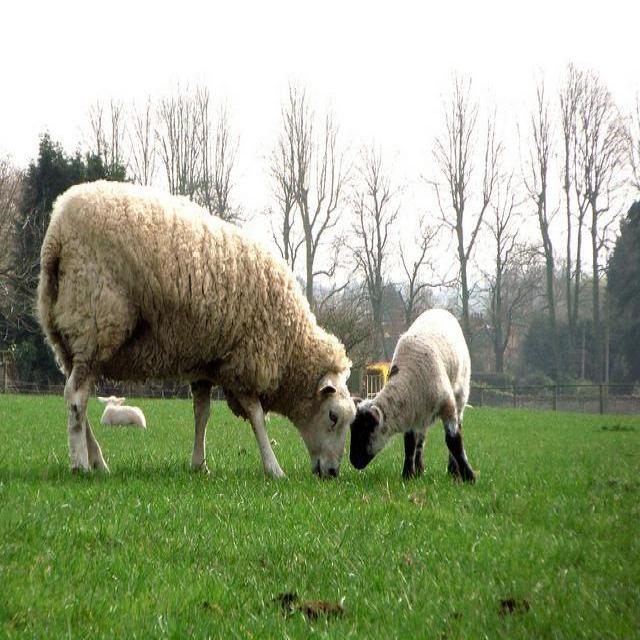Sheep: (32, 182, 354, 480), (350, 305, 476, 489)
